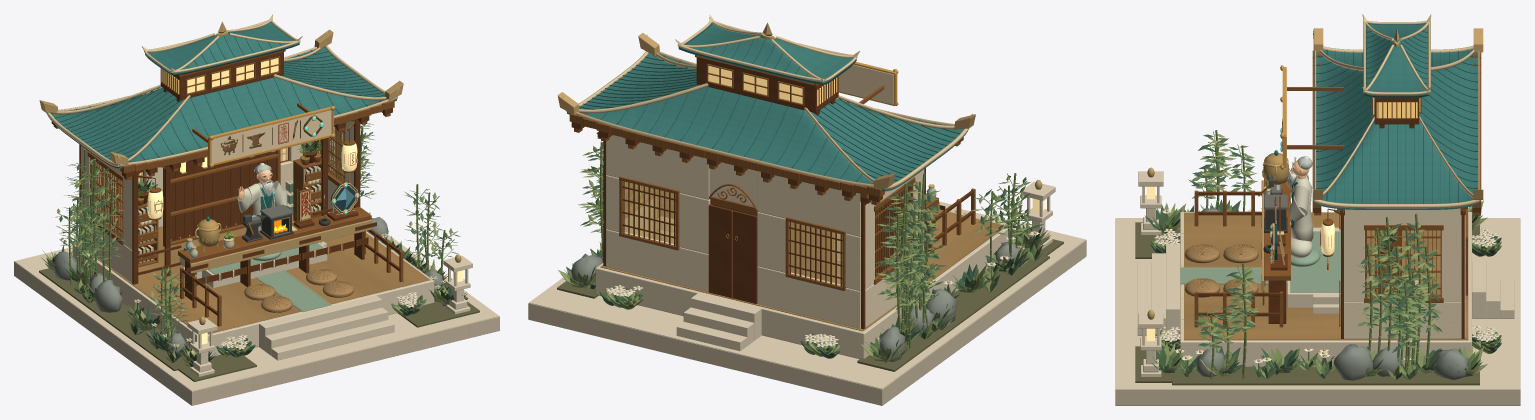
The model's file is arts-r6-v24.glb.
The picture shows the model from 3 angles, left to right: view 1: azimuth 30°, elevation 25°; view 2: azimuth 150°, elevation 25°; view 3: azimuth 270°, elevation 25°; orthographic projection. The views are drawn at different scales.
Visible parts, largest first — view 1: SM_AR6_MAT_AR6_RoofPatina.007, SM_AR6_MAT_AR6_CutStone.007, SM_AR6_MAT_AR6_TimberTrim.015, SM_AR6_MAT_AR6_WarmTimber.014, SM_AR6_MAT_AR6_FloorWood.007, SM_AR6_MAT_AR6_Foundation.007, SM_AR6_MAT_AR6_BambooCulm.007, SM_AR6_MAT_AR6_RoofCreamEdge.014, SM_AR6_MAT_AR6_GardenSoil.007, SM_AR6_MAT_AR6_Plaster.007, SM_AR6_MAT_AR6_PanelFoldShadow.007, SM_AR6_MAT_AR6_AgedGold.015 (+20 smaller); view 2: SM_AR6_MAT_AR6_RoofPatina.007, SM_AR6_MAT_AR6_Plaster.007, SM_AR6_MAT_AR6_CutStone.007, SM_AR6_MAT_AR6_TimberTrim.015, SM_AR6_MAT_AR6_Foundation.007, SM_AR6_MAT_AR6_WarmTimber.014, SM_AR6_MAT_AR6_RoofCreamEdge.014, SM_AR6_MAT_AR6_PanelFoldShadow.007, SM_AR6_MAT_AR6_RearWarmPaperGlass.004, SM_AR6_MAT_AR6_BambooCulm.007, SM_AR6_MAT_AR6_GardenSoil.007, SM_AR6_MAT_AR6_PaperFoliage2.007 (+13 smaller); view 3: SM_AR6_MAT_AR6_RoofPatina.007, SM_AR6_MAT_AR6_CutStone.007, SM_AR6_MAT_AR6_FloorWood.007, SM_AR6_MAT_AR6_Plaster.007, SM_AR6_MAT_AR6_Foundation.007, SM_AR6_MAT_AR6_TimberTrim.015, SM_AR6_MAT_AR6_GardenSoil.007, SM_AR6_MAT_AR6_RoofCreamEdge.014, SM_AR6_MAT_AR6_BambooCulm.007, SM_AR6_MAT_AR6_PaperFoliage1.007, SM_AR6_MAT_AR6_PaperFoliage3.007, SM_AR6_MAT_AR6_PaperFoliage0.007 (+19 smaller).
Boxes of the visible parts, x1,y1,x2,y2 form: SM_AR6_MAT_AR6_RoofPatina.007: (48, 22, 396, 168); SM_AR6_MAT_AR6_CutStone.007: (14, 231, 499, 391); SM_AR6_MAT_AR6_TimberTrim.015: (53, 49, 403, 326); SM_AR6_MAT_AR6_WarmTimber.014: (51, 88, 400, 315); SM_AR6_MAT_AR6_FloorWood.007: (84, 202, 429, 334); SM_AR6_MAT_AR6_Foundation.007: (14, 261, 499, 405); SM_AR6_MAT_AR6_BambooCulm.007: (57, 124, 457, 340); SM_AR6_MAT_AR6_RoofCreamEdge.014: (43, 14, 400, 166); SM_AR6_MAT_AR6_GardenSoil.007: (39, 239, 479, 381); SM_AR6_MAT_AR6_Plaster.007: (81, 121, 353, 282); SM_AR6_MAT_AR6_PanelFoldShadow.007: (50, 36, 384, 162); SM_AR6_MAT_AR6_AgedGold.015: (39, 29, 461, 324); SM_AR6_MAT_AR6_RoofPatina.007: (567, 23, 967, 191); SM_AR6_MAT_AR6_Plaster.007: (606, 135, 924, 328); SM_AR6_MAT_AR6_CutStone.007: (529, 181, 1085, 388); SM_AR6_MAT_AR6_TimberTrim.015: (569, 55, 975, 290); SM_AR6_MAT_AR6_Foundation.007: (528, 240, 1086, 405); SM_AR6_MAT_AR6_WarmTimber.014: (571, 99, 973, 329); SM_AR6_MAT_AR6_RoofCreamEdge.014: (562, 14, 973, 189); SM_AR6_MAT_AR6_PanelFoldShadow.007: (579, 39, 960, 184); SM_AR6_MAT_AR6_RearWarmPaperGlass.004: (624, 181, 842, 284); SM_AR6_MAT_AR6_BambooCulm.007: (589, 142, 1031, 348); SM_AR6_MAT_AR6_GardenSoil.007: (557, 229, 1063, 371); SM_AR6_MAT_AR6_PaperFoliage2.007: (570, 147, 1047, 362); SM_AR6_MAT_AR6_RoofPatina.007: (1315, 23, 1478, 209); SM_AR6_MAT_AR6_CutStone.007: (1115, 171, 1520, 389); SM_AR6_MAT_AR6_FloorWood.007: (1184, 212, 1468, 340); SM_AR6_MAT_AR6_Plaster.007: (1344, 208, 1465, 338); SM_AR6_MAT_AR6_Foundation.007: (1115, 219, 1520, 405); SM_AR6_MAT_AR6_TimberTrim.015: (1194, 50, 1481, 327); SM_AR6_MAT_AR6_GardenSoil.007: (1135, 222, 1479, 385); SM_AR6_MAT_AR6_RoofCreamEdge.014: (1313, 14, 1480, 208); SM_AR6_MAT_AR6_BambooCulm.007: (1200, 130, 1435, 378); SM_AR6_MAT_AR6_PaperFoliage1.007: (1151, 134, 1501, 378); SM_AR6_MAT_AR6_PaperFoliage3.007: (1144, 134, 1501, 379); SM_AR6_MAT_AR6_PaperFoliage0.007: (1150, 138, 1497, 378).
Size of the model in its own units: 10 by 7.97 by 10.
Materials: 83 (12 with a texture image).
